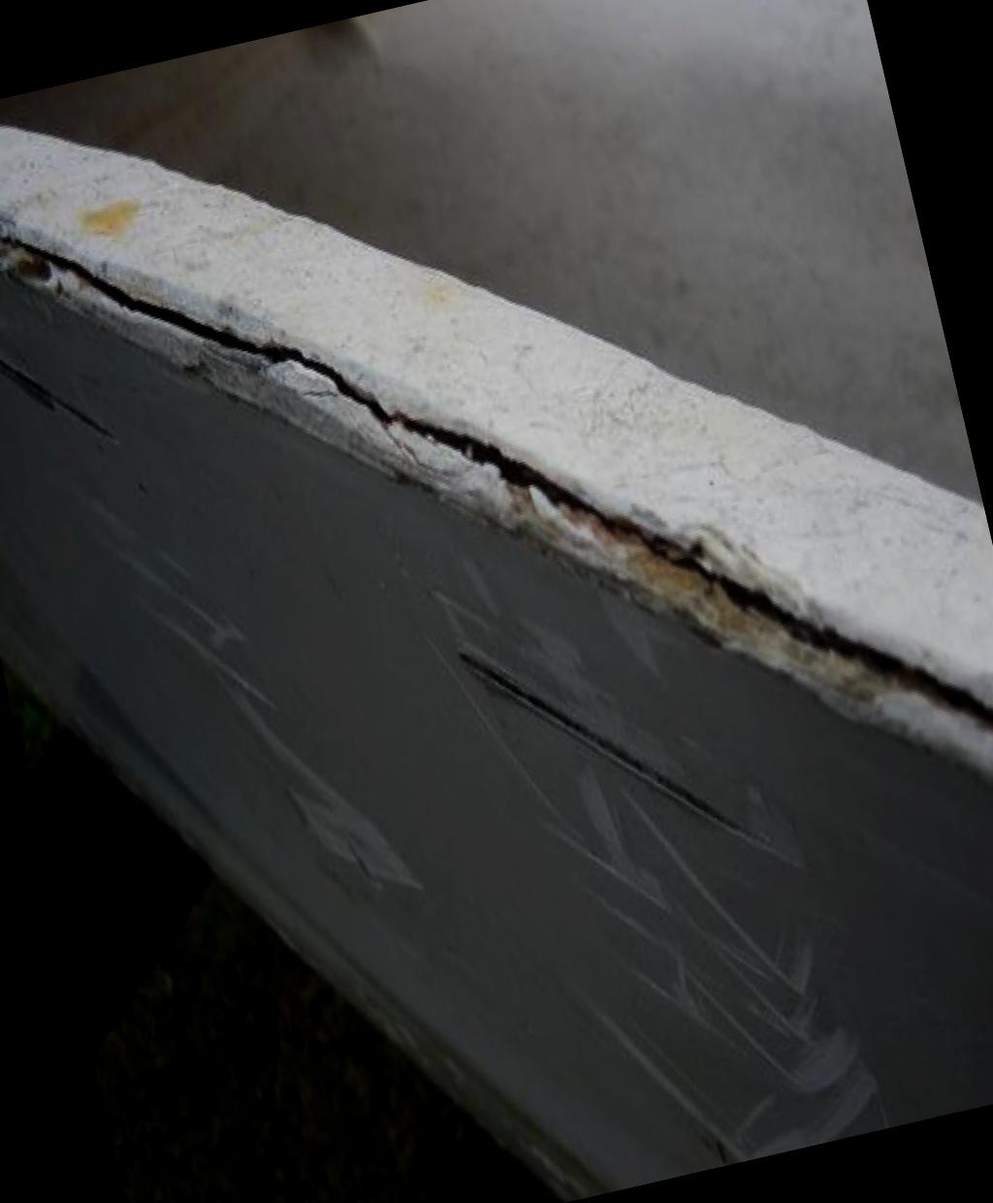crack: (0, 0, 993, 1035)
